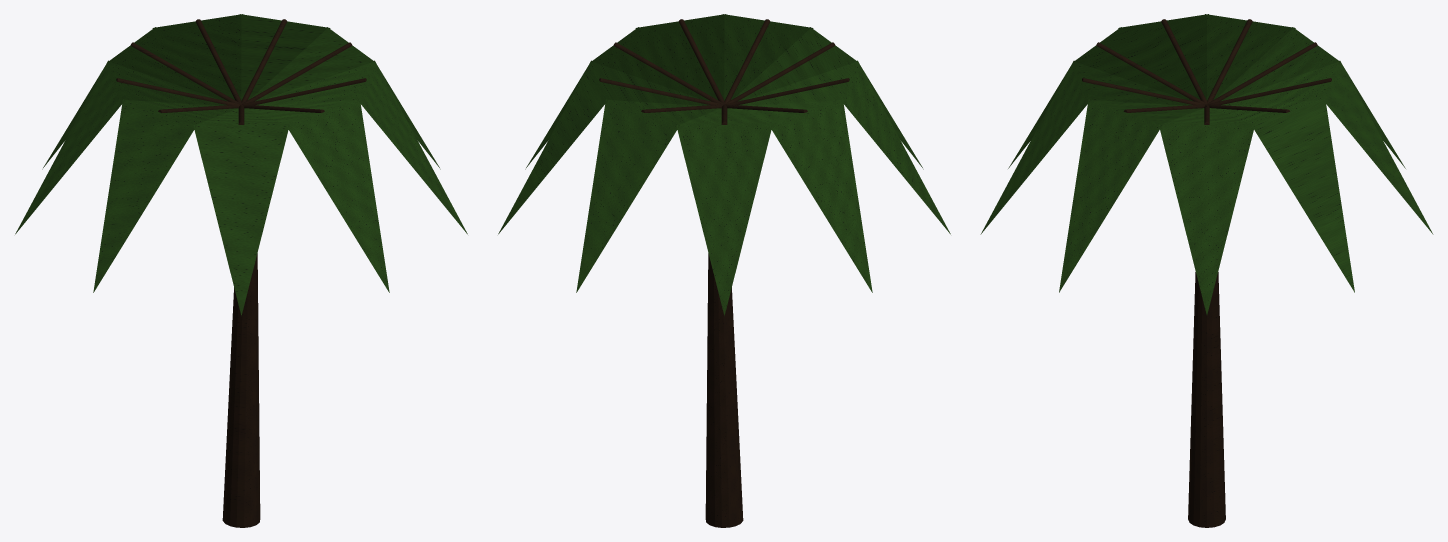
The model's file is PROP-EDA374C629E4_lod0.glb.
3 views of the same model, side by side, from view 1: azimuth 30°, elevation 25°; view 2: azimuth 150°, elevation 25°; view 3: azimuth 270°, elevation 25° (orthographic).
Visible parts, largest first — view 1: palm_frond.002, trunk.080, palm_frond_spine.002; view 2: palm_frond.002, trunk.080, palm_frond_spine.002; view 3: palm_frond.002, trunk.080, palm_frond_spine.002.
Boxes of the visible parts, x1=… form: palm_frond.002: x1=15, y1=14, x2=467, y2=315; trunk.080: x1=222, y1=253, x2=260, y2=527; palm_frond_spine.002: x1=116, y1=19, x2=366, y2=124; palm_frond.002: x1=498, y1=14, x2=950, y2=315; trunk.080: x1=705, y1=253, x2=743, y2=527; palm_frond_spine.002: x1=599, y1=19, x2=849, y2=124; palm_frond.002: x1=980, y1=14, x2=1433, y2=314; trunk.080: x1=1188, y1=272, x2=1225, y2=527; palm_frond_spine.002: x1=1082, y1=19, x2=1331, y2=124.
Size of the model in its own units: 5.65 by 6.3 by 5.74.
2 materials, 2 textured.
